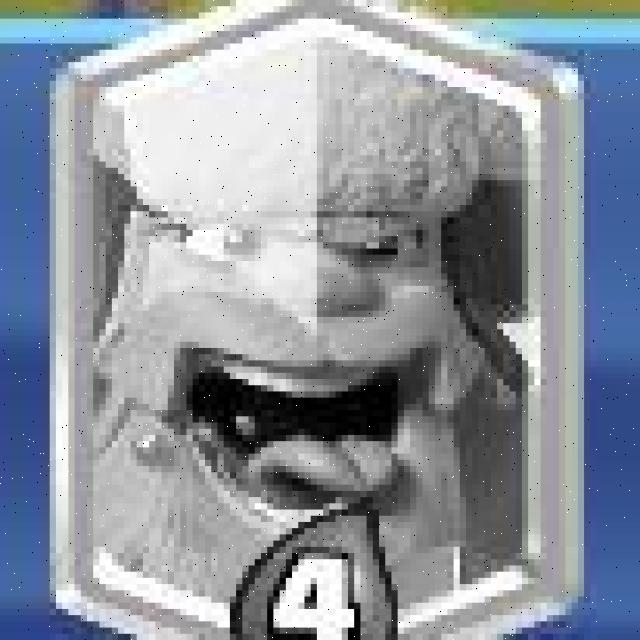Lumberjack: (62, 3, 586, 637)
